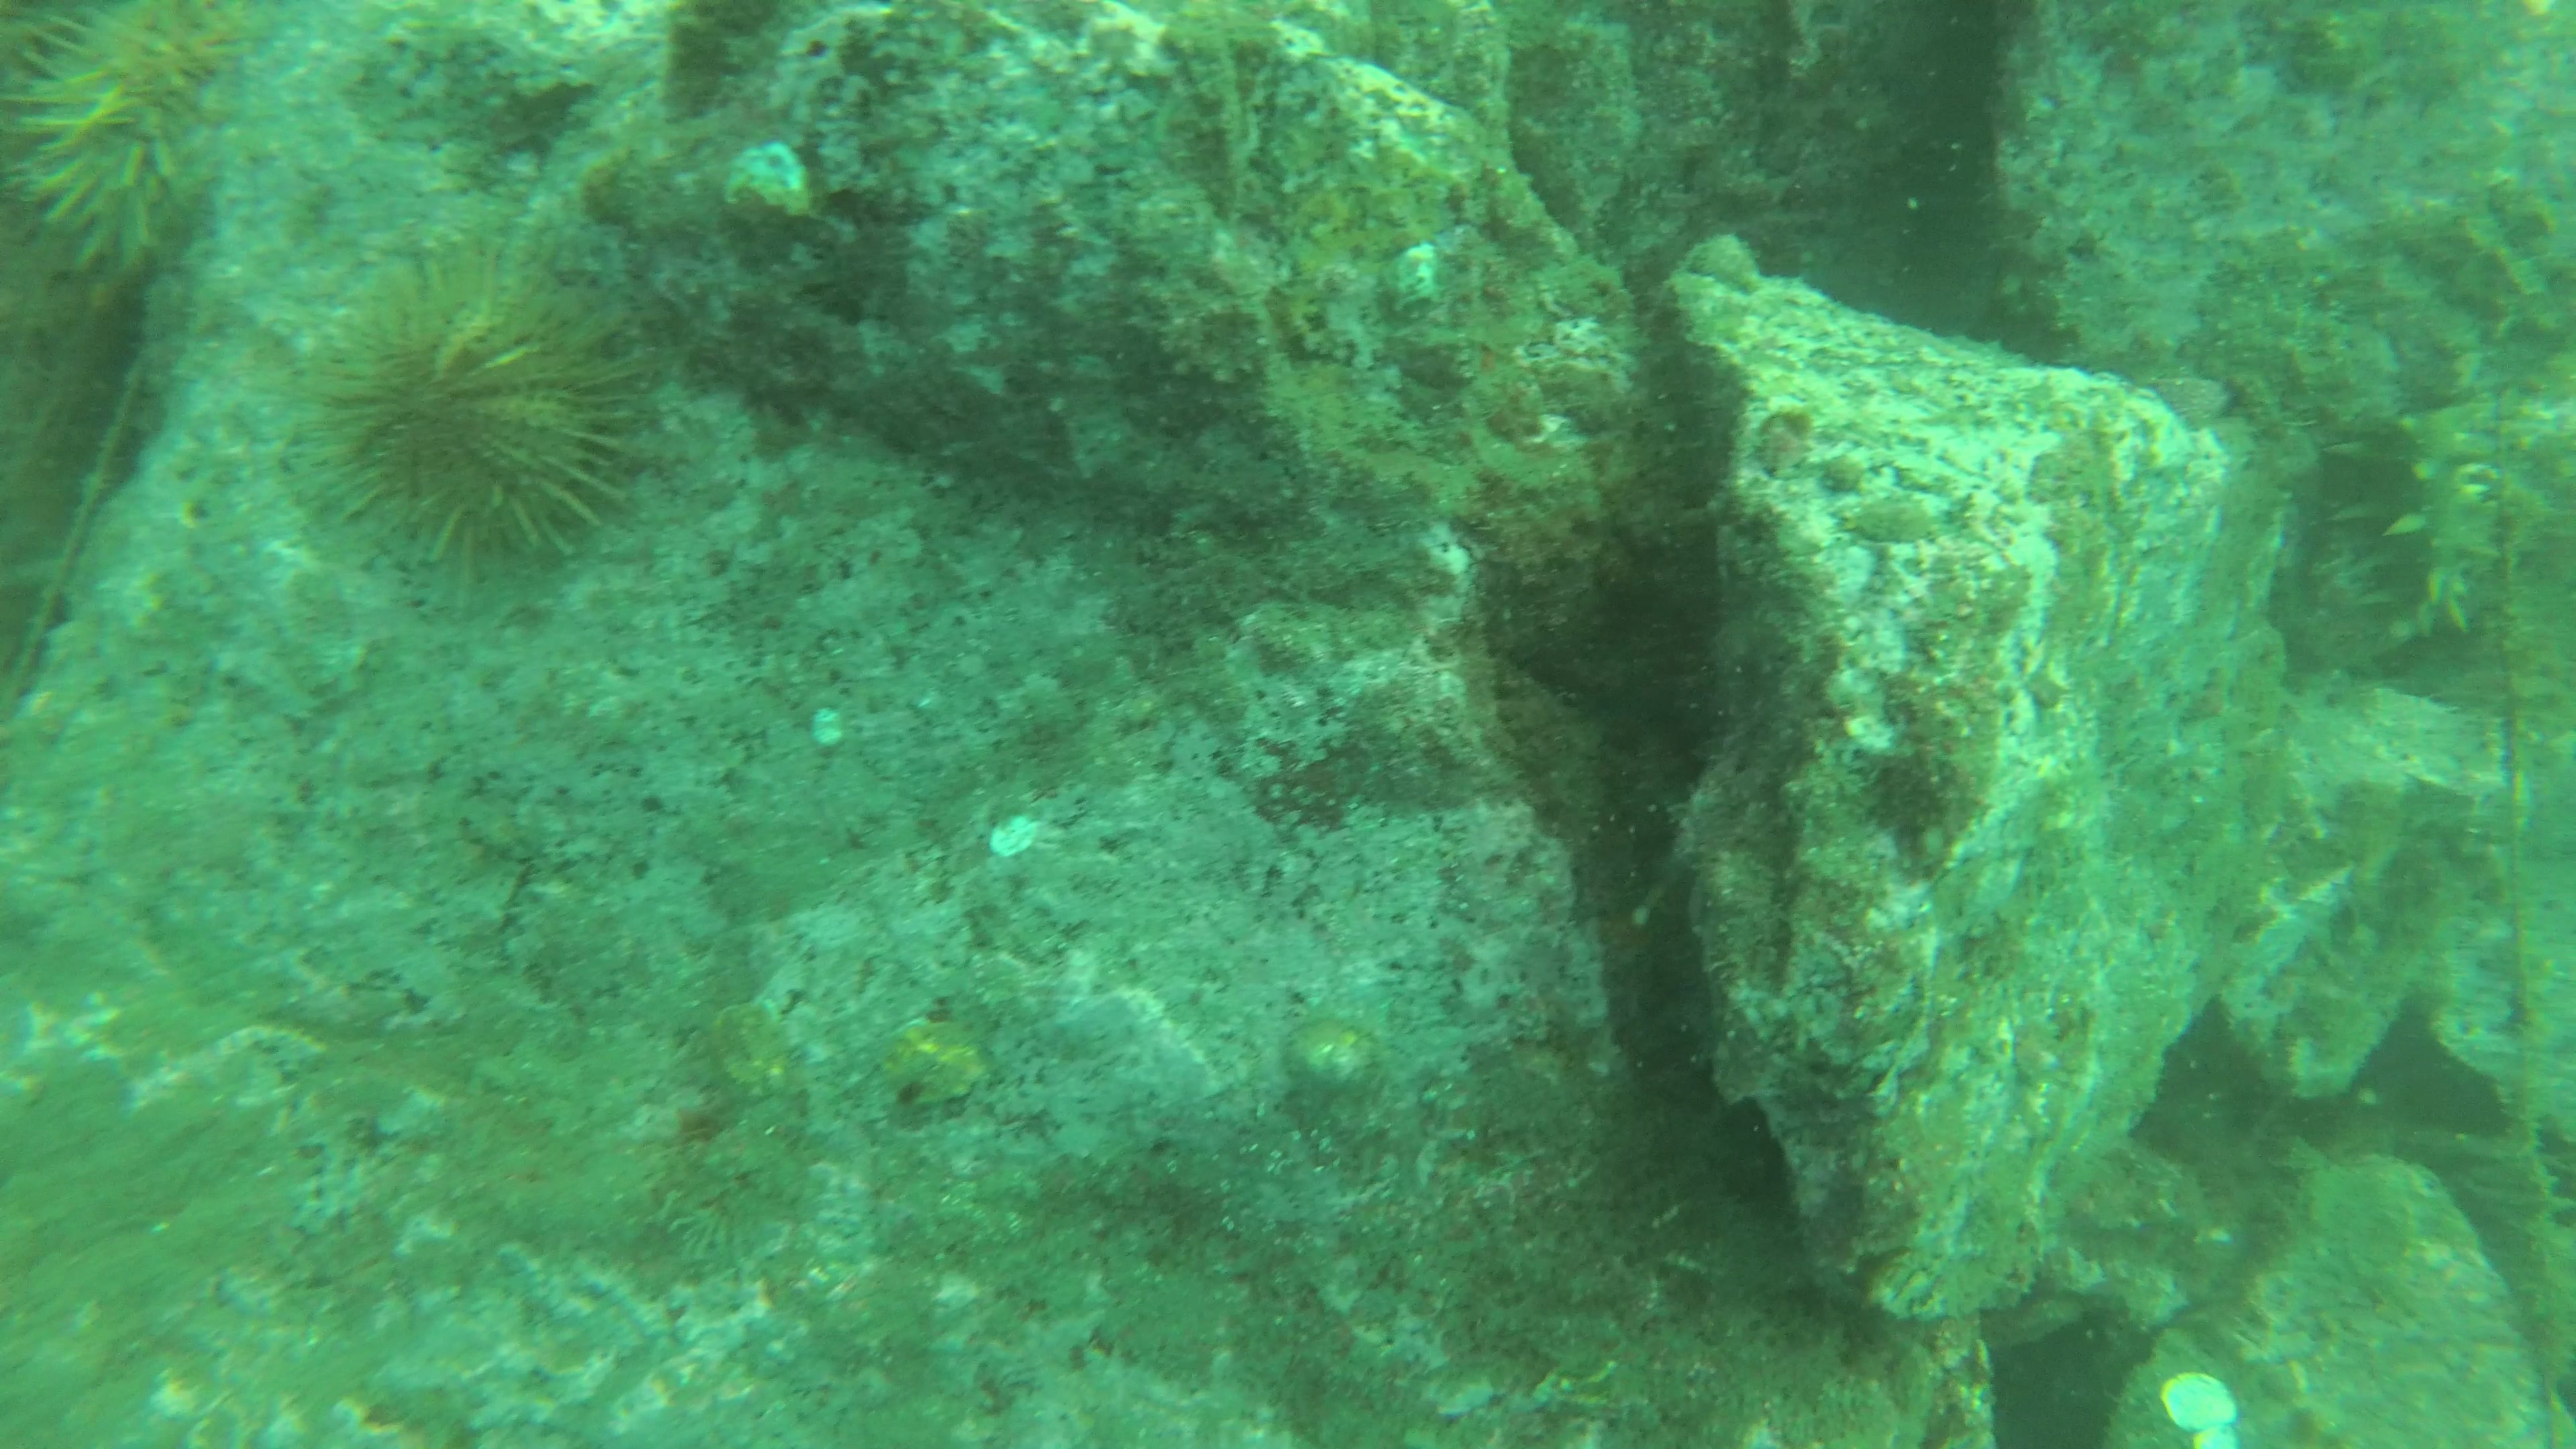echinus: (294, 228, 679, 589), (5, 0, 244, 280)
holothurian: (2334, 402, 2512, 658)
